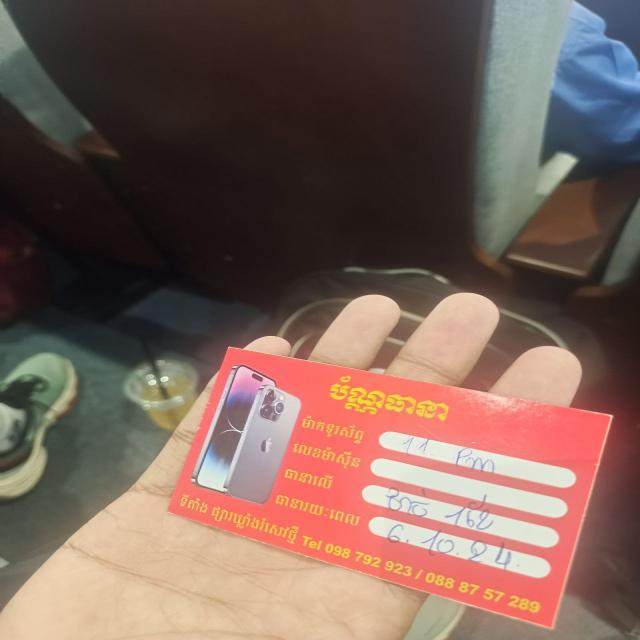491: (321, 538, 549, 621)
893: (273, 490, 363, 530)
Yolov11_80vkh: (314, 368, 461, 434), (176, 488, 305, 548), (289, 438, 365, 474), (300, 412, 370, 448), (281, 463, 339, 494)
